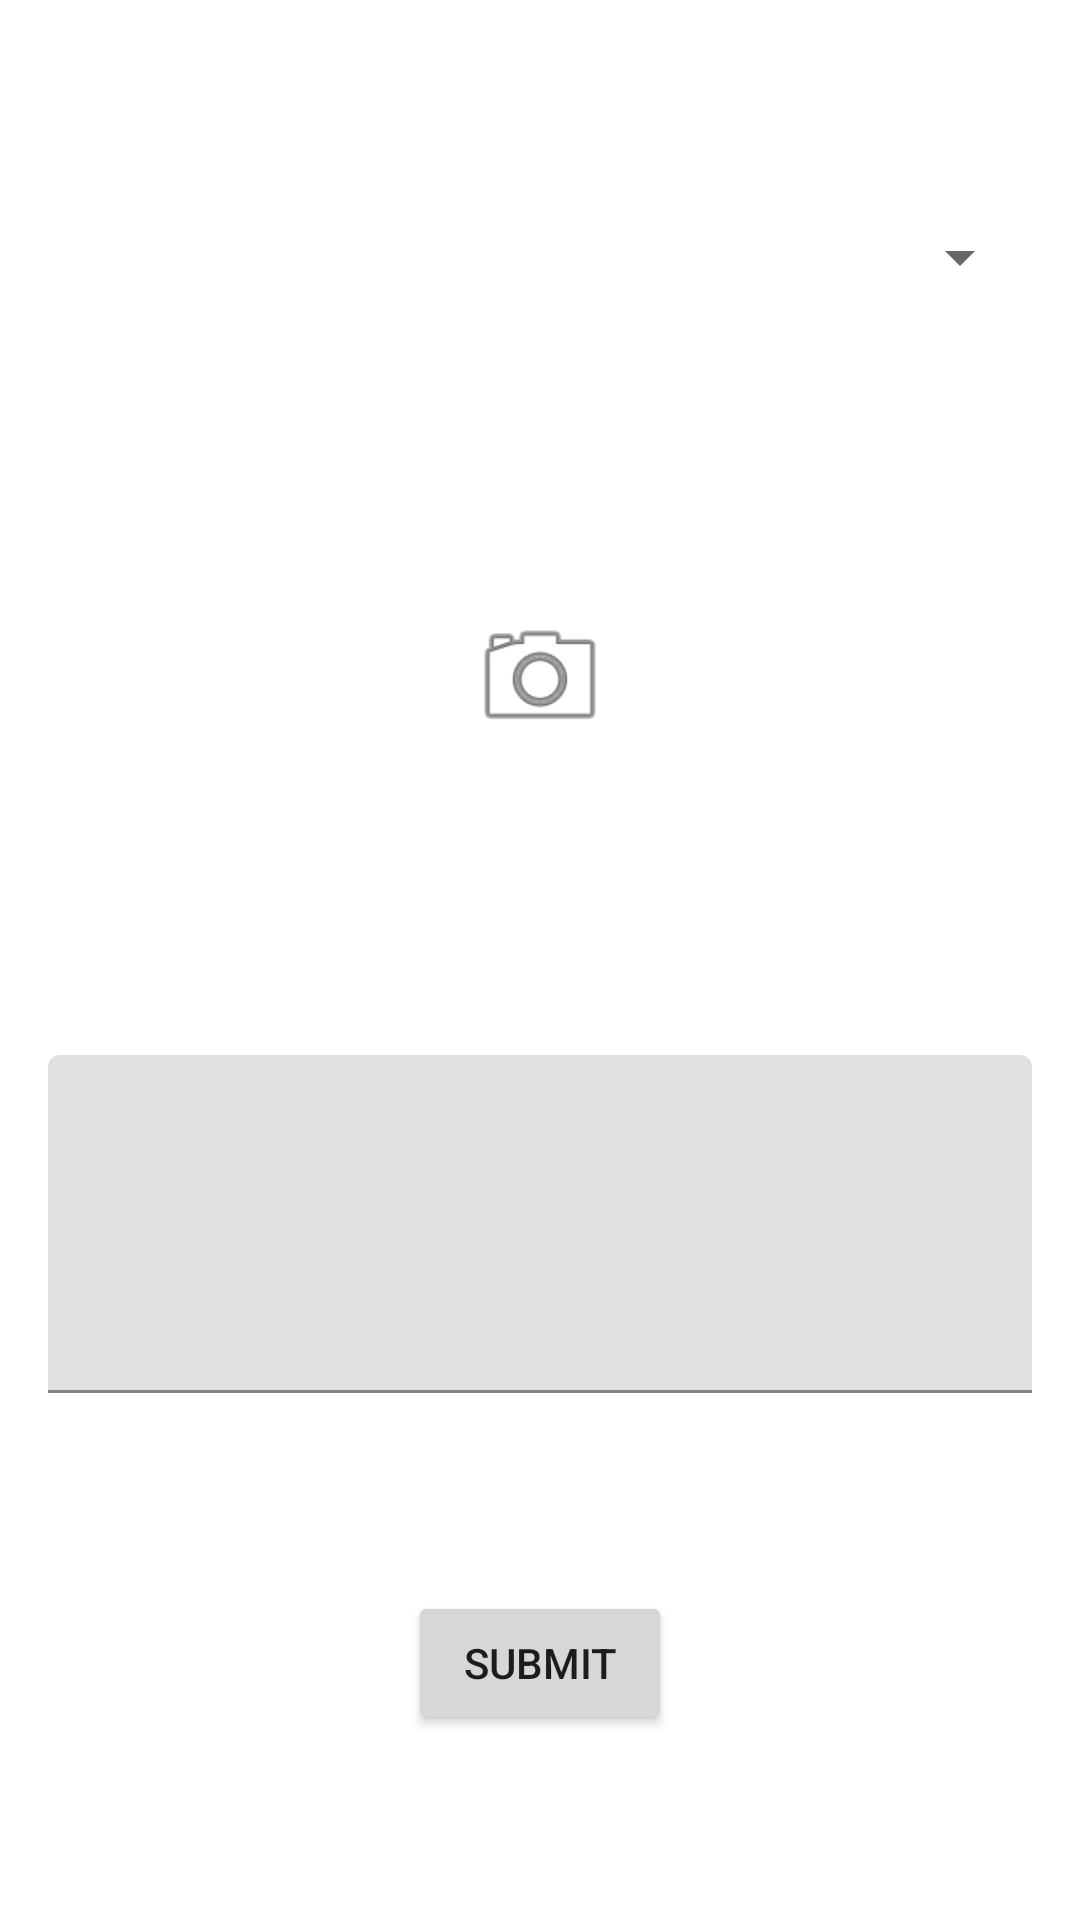

Screen size 1080px x 1920px. Icon name, then its box in pixels as (x1, y1, x2, y2):
camera: (484, 630, 596, 719)
